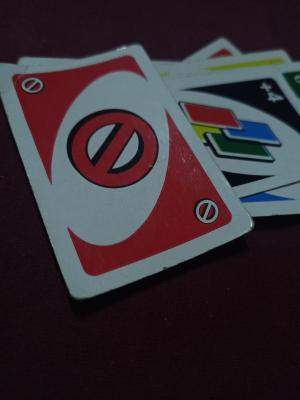skip: (58, 102, 166, 194), (193, 194, 225, 231), (17, 72, 47, 98)
wild-4: (172, 61, 300, 204), (256, 73, 291, 110)
